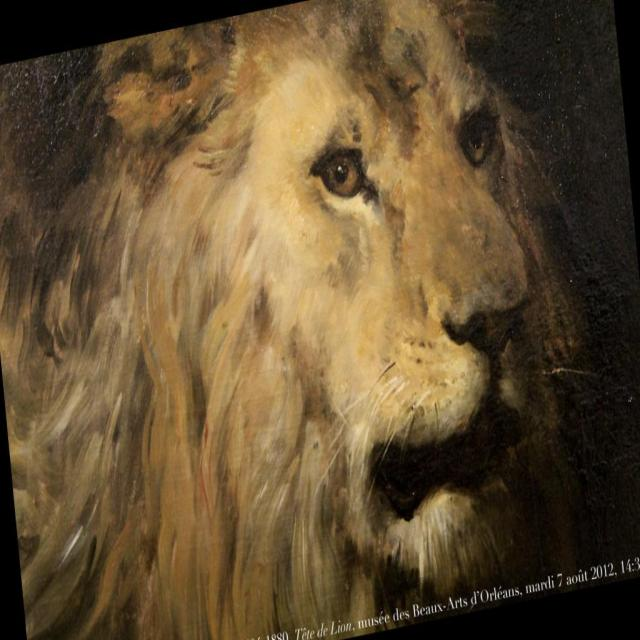Lion: (0, 0, 609, 639)
